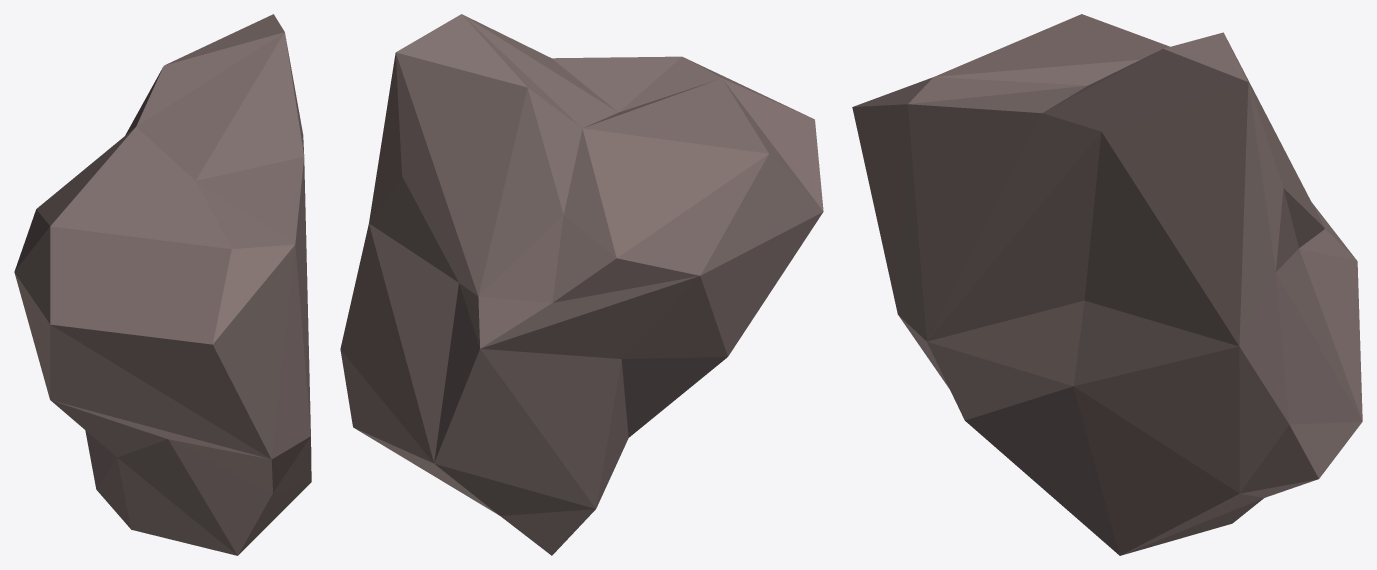
File: Cave_Rock.FBX
3 renders of one model, left to right at view 1: azimuth 30°, elevation 25°; view 2: azimuth 150°, elevation 25°; view 3: azimuth 270°, elevation 25°, orthographic. The views are drawn at different scales.
Parts seen in each view (by area): view 1: GeoSphere067; view 2: GeoSphere067; view 3: GeoSphere067.
Boxes of the visible parts, x1,y1,x2,y2 form: GeoSphere067: [14, 14, 311, 555]; GeoSphere067: [340, 14, 823, 555]; GeoSphere067: [852, 14, 1362, 555].
Size of the model in its own units: 31.49 by 40.87 by 34.82.
